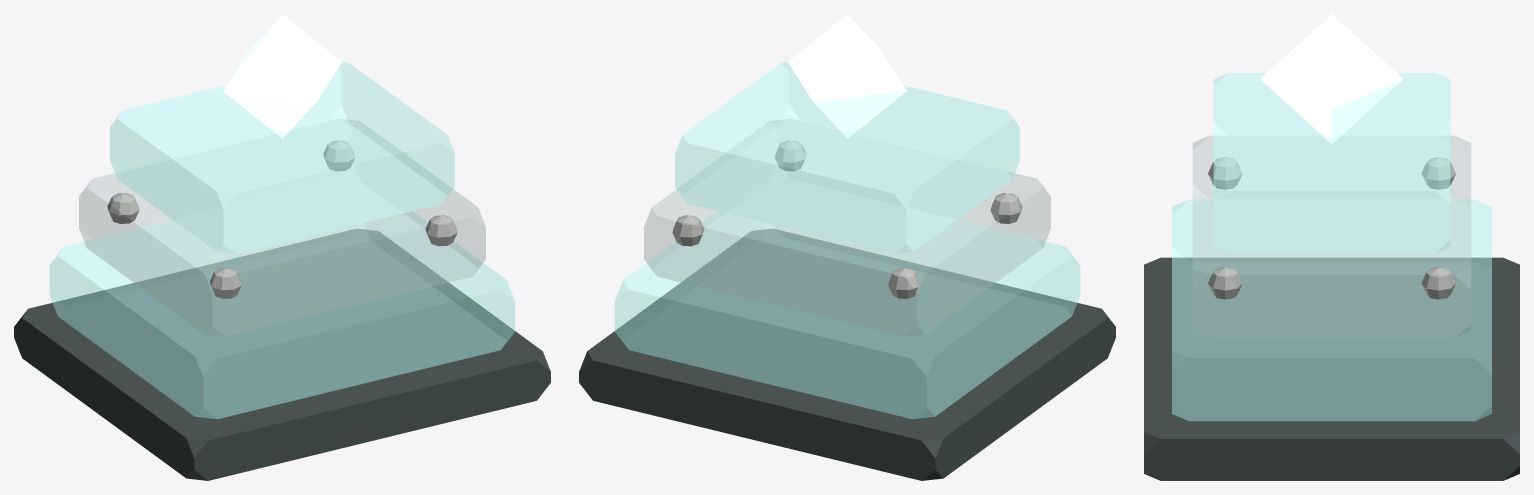
The model's file is knowledge-object.glb.
The picture shows the model from 3 angles, left to right: view 1: azimuth 30°, elevation 25°; view 2: azimuth 150°, elevation 25°; view 3: azimuth 270°, elevation 25°; orthographic projection. The views are drawn at different scales.
Parts seen in each view (by area): view 1: Knowledge_Base, Knowledge_Layer_1, Knowledge_Layer_2, Knowledge_Layer_3, Knowledge_Core, Knowledge_Relation_1, Knowledge_Relation_4, Knowledge_Relation_3, Knowledge_Relation_2; view 2: Knowledge_Base, Knowledge_Layer_1, Knowledge_Layer_2, Knowledge_Layer_3, Knowledge_Core, Knowledge_Relation_2, Knowledge_Relation_3, Knowledge_Relation_1, Knowledge_Relation_4; view 3: Knowledge_Base, Knowledge_Layer_1, Knowledge_Layer_2, Knowledge_Layer_3, Knowledge_Core, Knowledge_Relation_2, Knowledge_Relation_4, Knowledge_Relation_1, Knowledge_Relation_3.
Part boxes in pixels (bbox=[...]): Knowledge_Base: bbox=[14, 229, 550, 480]; Knowledge_Layer_1: bbox=[49, 211, 515, 419]; Knowledge_Layer_2: bbox=[79, 119, 485, 336]; Knowledge_Layer_3: bbox=[110, 61, 454, 253]; Knowledge_Core: bbox=[223, 14, 341, 138]; Knowledge_Relation_1: bbox=[107, 193, 139, 223]; Knowledge_Relation_4: bbox=[425, 215, 457, 246]; Knowledge_Relation_3: bbox=[209, 268, 241, 298]; Knowledge_Relation_2: bbox=[323, 140, 354, 170]; Knowledge_Base: bbox=[579, 229, 1115, 480]; Knowledge_Layer_1: bbox=[614, 211, 1080, 419]; Knowledge_Layer_2: bbox=[644, 119, 1050, 336]; Knowledge_Layer_3: bbox=[675, 61, 1019, 253]; Knowledge_Core: bbox=[788, 14, 906, 138]; Knowledge_Relation_2: bbox=[672, 215, 704, 246]; Knowledge_Relation_3: bbox=[990, 193, 1022, 223]; Knowledge_Relation_1: bbox=[888, 268, 920, 298]; Knowledge_Relation_4: bbox=[775, 140, 806, 170]; Knowledge_Base: bbox=[1144, 257, 1519, 480]; Knowledge_Layer_1: bbox=[1172, 199, 1491, 421]; Knowledge_Layer_2: bbox=[1193, 136, 1470, 337]; Knowledge_Layer_3: bbox=[1213, 73, 1450, 253]; Knowledge_Core: bbox=[1260, 14, 1403, 143]; Knowledge_Relation_2: bbox=[1421, 267, 1455, 299]; Knowledge_Relation_4: bbox=[1208, 267, 1242, 299]; Knowledge_Relation_1: bbox=[1421, 157, 1455, 189]; Knowledge_Relation_3: bbox=[1208, 157, 1242, 189].
Bounding box in the file's own units: 1.85 × 1.79 × 1.62.
